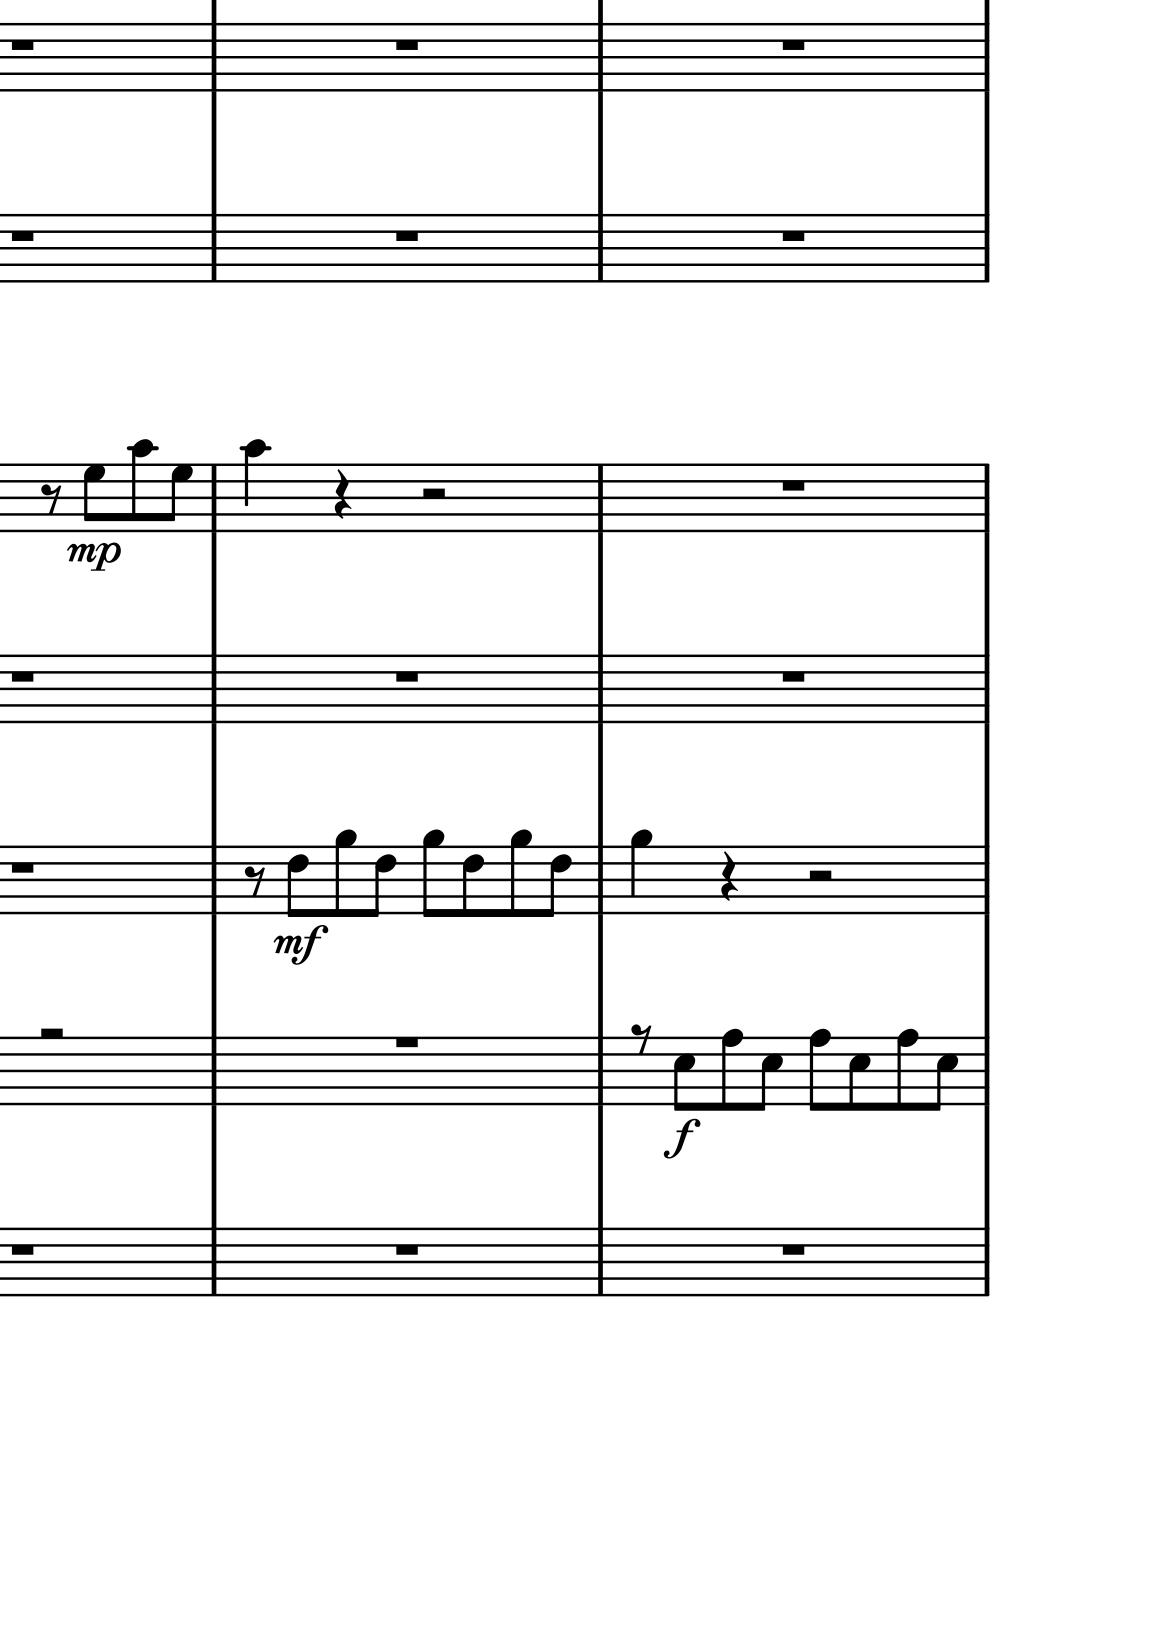4_10: (239, 437, 271, 535)
4_9: (628, 827, 655, 916)
8_10: (128, 437, 157, 533)
8_5: (753, 1036, 784, 1114), (929, 1036, 959, 1113), (847, 1036, 871, 1114), (672, 1036, 697, 1113)
8_6: (540, 842, 574, 918), (367, 844, 396, 918), (286, 844, 310, 920), (460, 844, 485, 918)
8_7: (163, 464, 193, 532), (81, 462, 106, 533)
8_8: (807, 1027, 833, 1114), (719, 1027, 746, 1113), (894, 1027, 920, 1113)
8_9: (507, 829, 534, 918), (333, 829, 358, 918), (421, 829, 446, 918)
Rests1: (6, 665, 37, 687), (777, 35, 809, 55), (6, 35, 37, 55), (778, 226, 809, 245), (6, 1239, 37, 1259), (777, 1240, 809, 1259), (391, 35, 421, 55), (7, 226, 37, 245), (777, 476, 809, 493), (391, 226, 421, 244), (391, 667, 421, 685), (778, 667, 808, 685), (391, 1033, 421, 1052), (391, 1240, 421, 1259), (7, 859, 37, 876)
Rests2: (35, 1022, 69, 1044), (416, 485, 450, 503), (803, 869, 837, 886)
Rests4: (716, 850, 741, 905), (330, 469, 352, 523)
Rests8: (39, 482, 64, 516), (243, 864, 267, 898), (630, 1022, 652, 1056)
Single_barline: (588, 845, 613, 913), (588, 464, 612, 533), (201, 1037, 224, 1107), (588, 655, 613, 722), (202, 464, 224, 533), (202, 22, 224, 91), (588, 1037, 611, 1105), (588, 22, 611, 90), (588, 214, 611, 282), (975, 214, 997, 282), (202, 846, 224, 913), (975, 846, 997, 913), (202, 1229, 224, 1296), (202, 655, 224, 722), (975, 22, 996, 92), (976, 464, 997, 533), (975, 1227, 996, 1297), (975, 1038, 996, 1107), (976, 655, 997, 723), (202, 216, 223, 282), (590, 1229, 610, 1296)
f: (661, 1117, 701, 1160)
mf: (271, 923, 327, 967)
mp: (66, 540, 122, 574)
